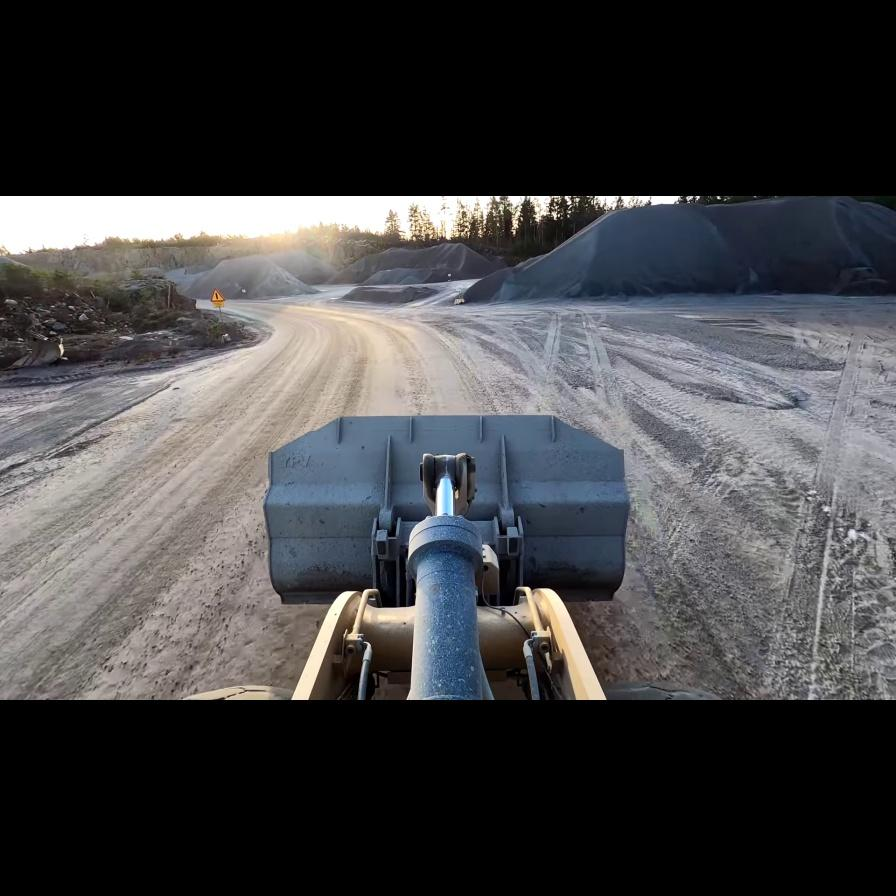anchor: (421, 452, 476, 514)
pile of gravel: (458, 195, 896, 301), (330, 243, 503, 286), (176, 254, 323, 300), (337, 285, 443, 305)
